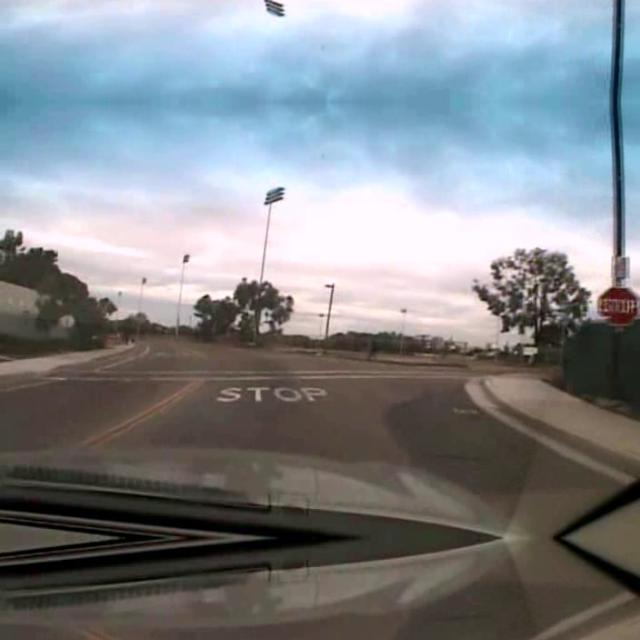stop: (598, 285, 638, 325)
